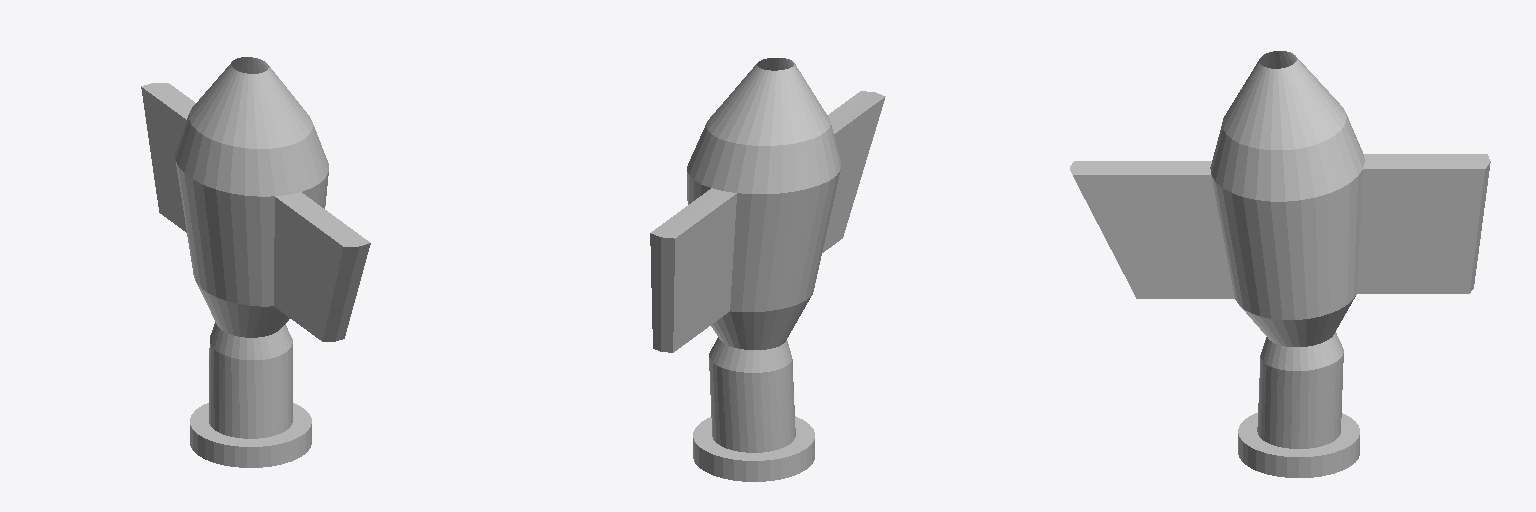
File: TotemModel.obj
3 views of the same model, side by side, from view 1: azimuth 30°, elevation 25°; view 2: azimuth 150°, elevation 25°; view 3: azimuth 270°, elevation 25° (orthographic).
Visible parts, largest first — view 1: Cylinder; view 2: Cylinder; view 3: Cylinder.
Part boxes in pixels (left/top/right/bottom): Cylinder: left=141, top=57, right=370, bottom=467; Cylinder: left=650, top=58, right=885, bottom=481; Cylinder: left=1070, top=51, right=1490, bottom=477.
Bounding box in the file's own units: 4.53 × 12.58 × 12.36.